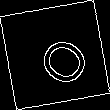O_NW: (22, 23, 88, 87)
